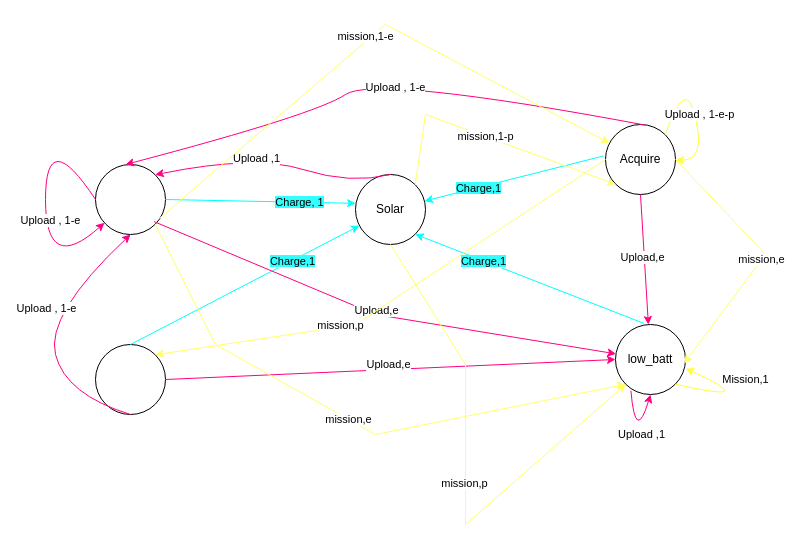
This 802x550 diagram has some shape labels left out. Each missing label, with the box of its shape:
E_S: (94, 164, 166, 234)
full_memory: (94, 344, 166, 414)
